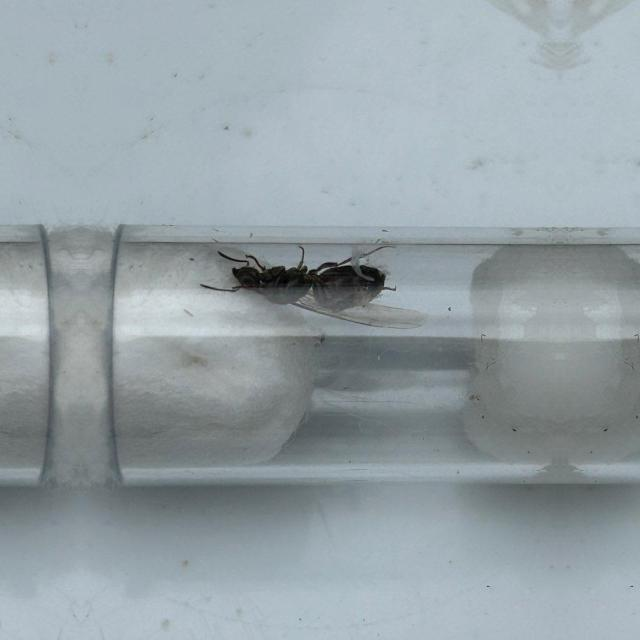Lasius: (195, 234, 438, 340)
